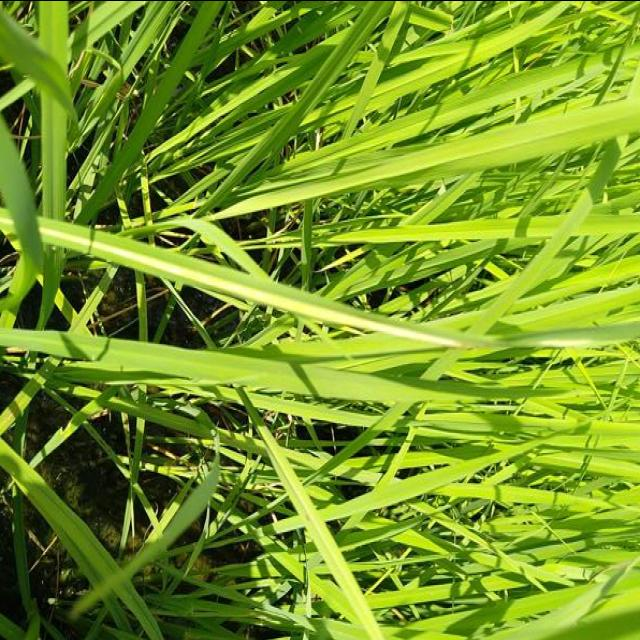Leaf Blight: (39, 227, 464, 346)
